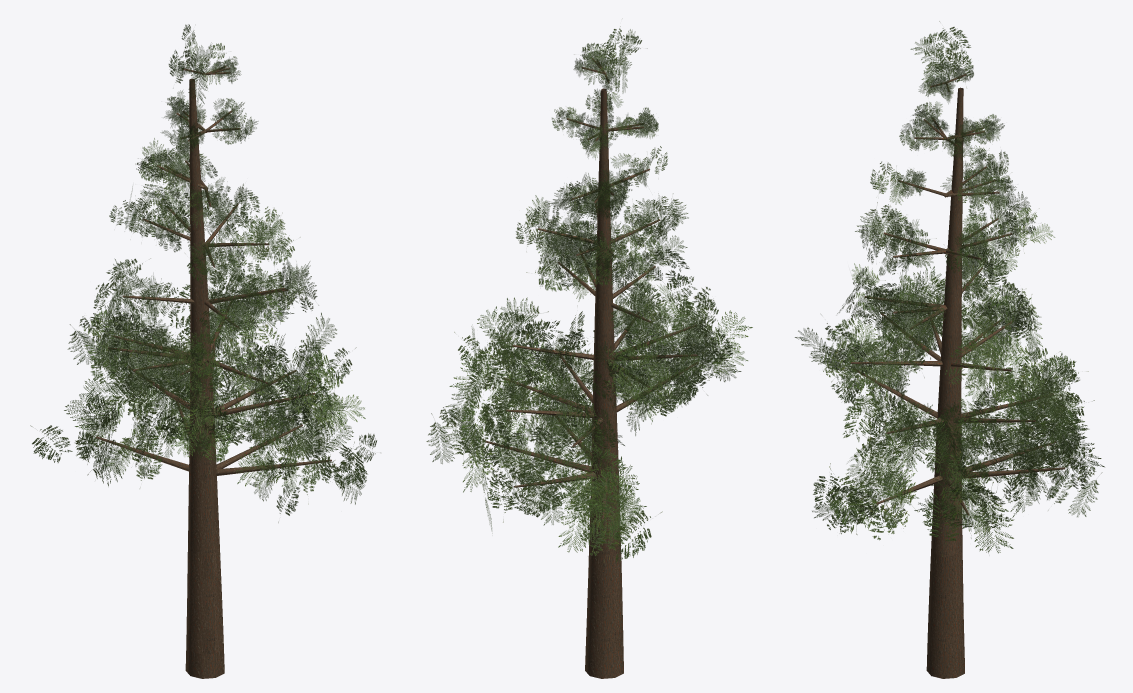
The model's file is pine_2.glb.
3 renders of one model, left to right at view 1: azimuth 30°, elevation 25°; view 2: azimuth 150°, elevation 25°; view 3: azimuth 270°, elevation 25°, orthographic.
Visible parts, largest first — view 1: pine; view 2: pine; view 3: pine.
Boxes of the visible parts, x1,y1,x2,y2 form: pine: (30,24,376,678); pine: (426,26,752,678); pine: (795,21,1104,678).
Size of the model in its own units: 7.17 by 15.22 by 7.
2 materials, 2 textured.
